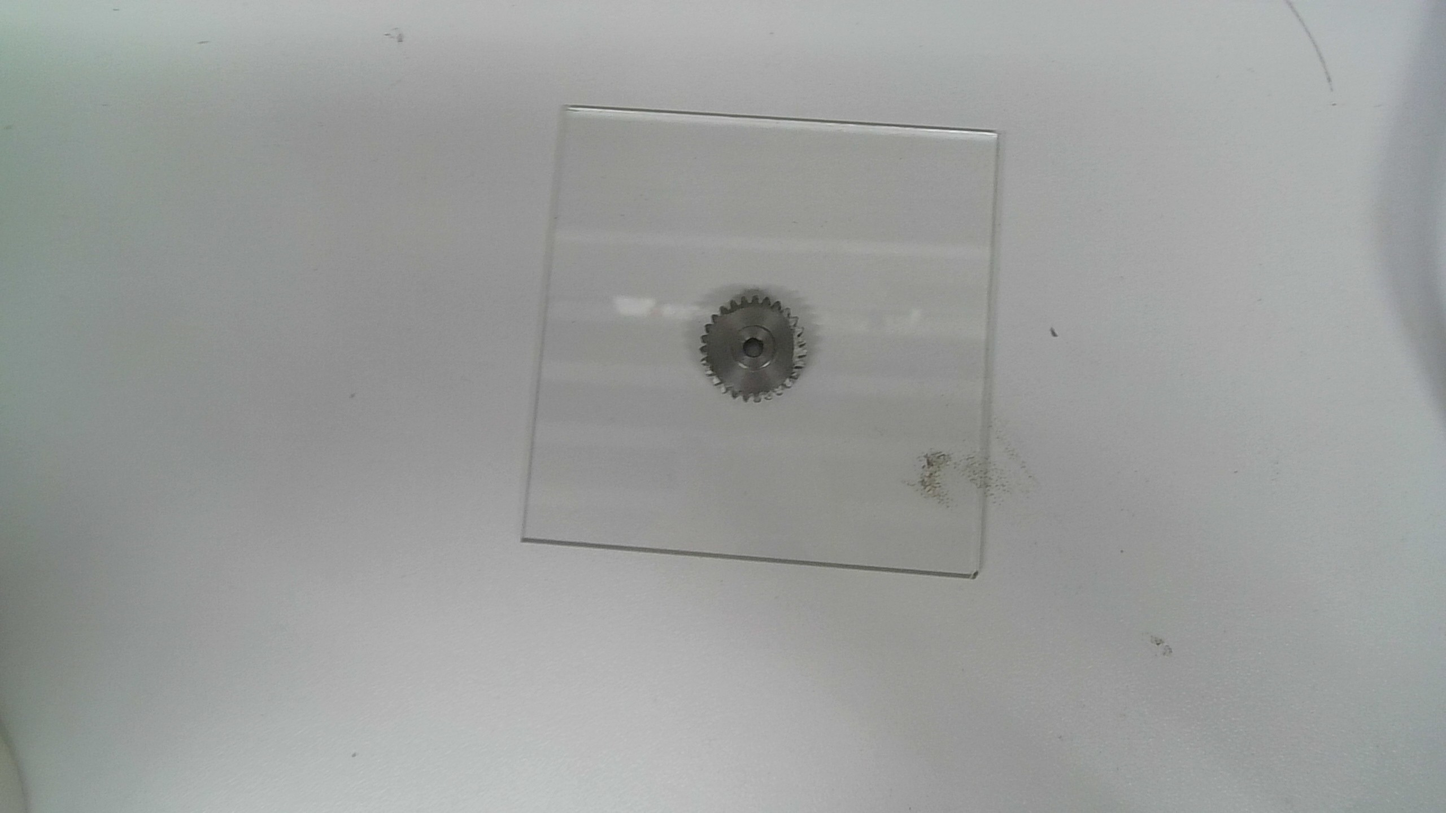gear: (698, 294, 809, 404)
